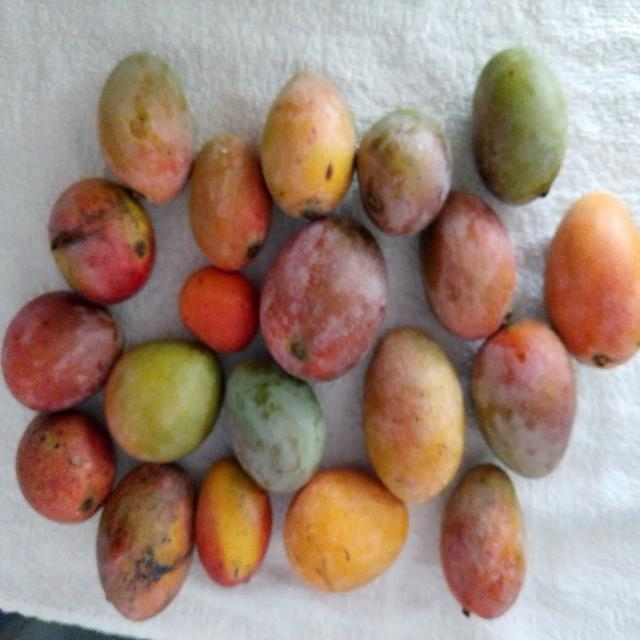mango: (258, 212, 390, 382), (469, 317, 580, 483), (544, 190, 640, 372), (93, 456, 194, 621), (284, 465, 412, 595), (103, 336, 226, 464), (469, 47, 568, 203), (262, 70, 358, 227), (46, 176, 160, 307), (440, 461, 530, 622), (352, 106, 457, 240), (11, 412, 126, 525), (185, 132, 272, 275), (194, 456, 276, 586)
